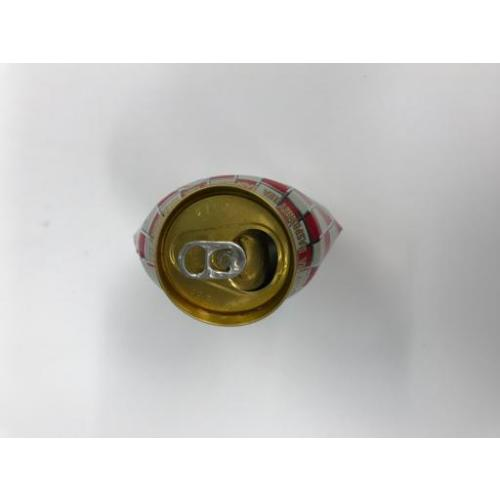metal: (134, 175, 344, 327)
